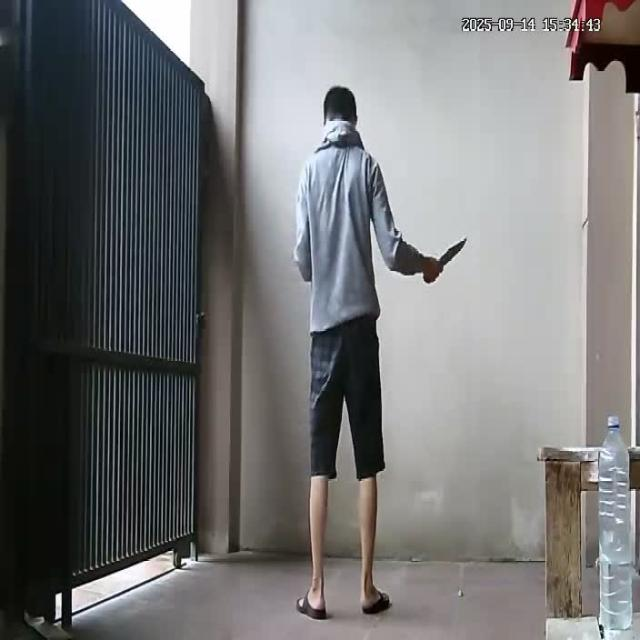senjata_tajam: (440, 234, 470, 267)
